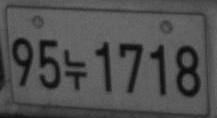1: (146, 44, 172, 95), (92, 40, 115, 92)
5: (37, 39, 61, 89)
7: (118, 42, 144, 93)
8: (175, 43, 202, 97)
9: (10, 36, 34, 87)
누: (62, 48, 87, 91)
